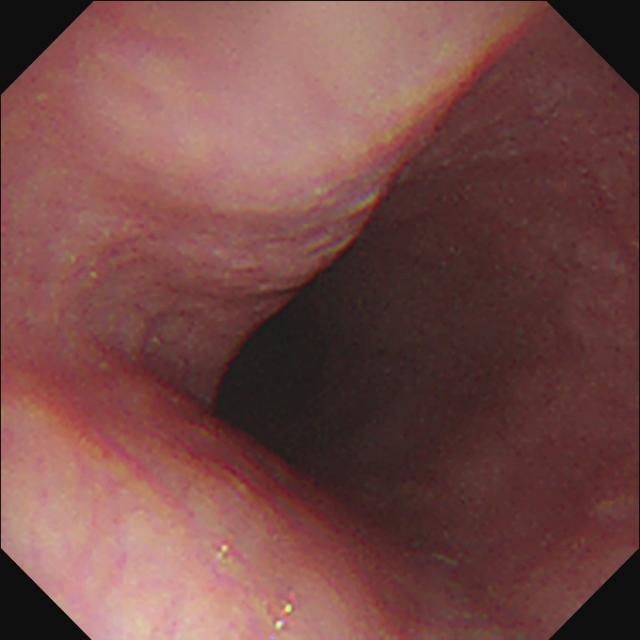E: (196, 263, 405, 489)
